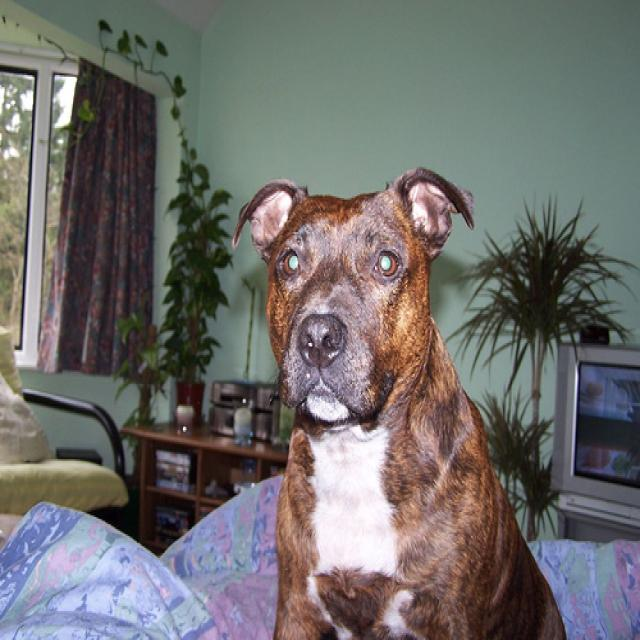dog: (229, 164, 471, 420)
